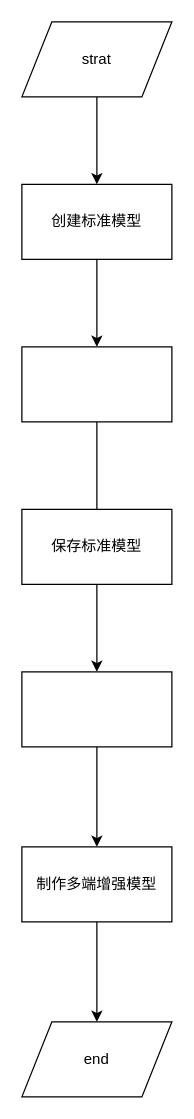
This 194x1119 diagram has some shape labels left out. The box of each missing label's shape, as (x1, y1, x2, y2) in pixels:
制作标准模型页面: (21, 346, 172, 422)
发布多端模型: (21, 671, 172, 747)
